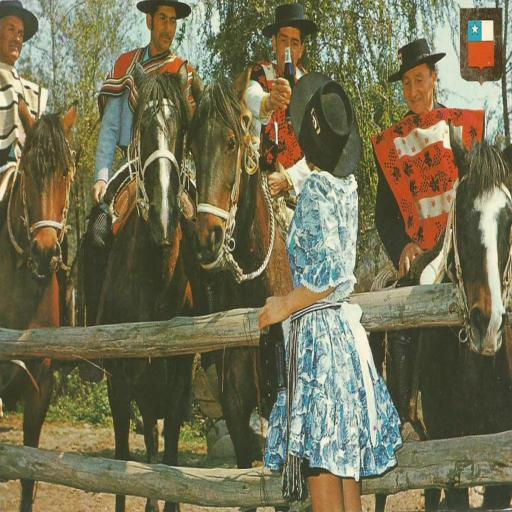horse: (370, 118, 512, 508), (82, 60, 202, 512), (180, 66, 296, 512), (0, 93, 81, 511)
